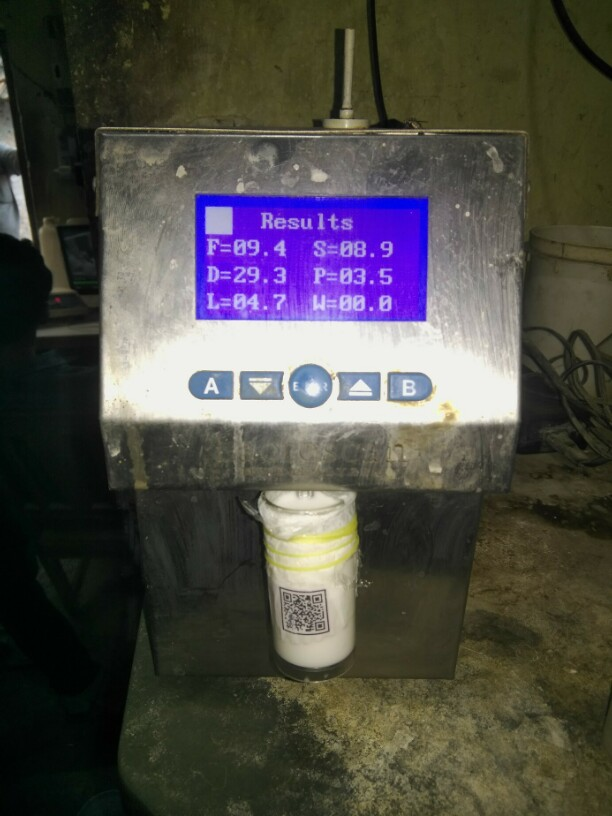lcd: (188, 189, 433, 331)
qr: (273, 582, 333, 639)
